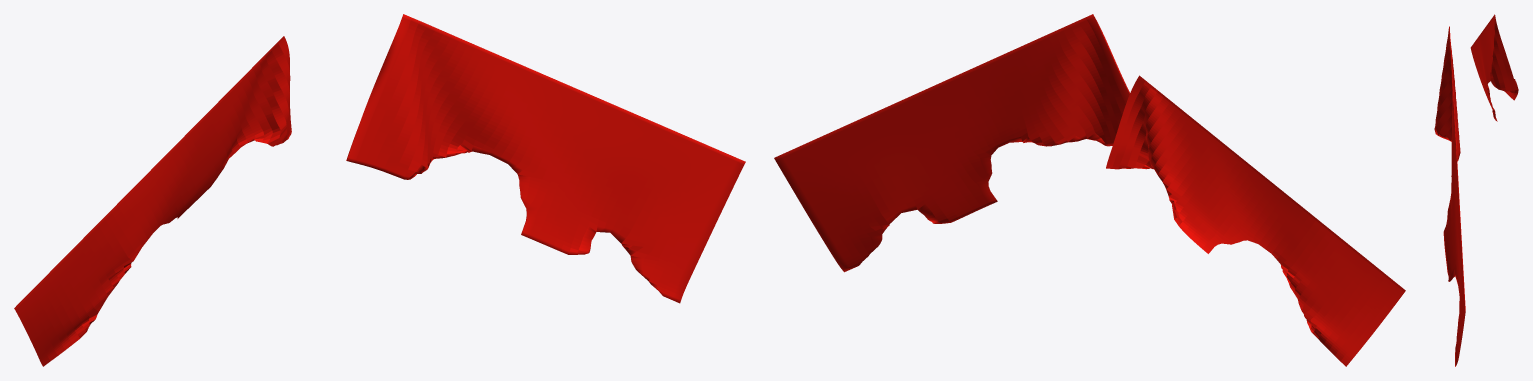
The model's file is ClotheRH.fbx.
3 views of the same model, side by side, from view 1: azimuth 30°, elevation 25°; view 2: azimuth 150°, elevation 25°; view 3: azimuth 270°, elevation 25° (orthographic). The views are drawn at different scales.
Parts seen in each view (by area): view 1: Plane.145, Plane.146; view 2: Plane.145, Plane.146; view 3: Plane.145, Plane.146.
Boxes of the visible parts, box(x1,y1,x2,y2) form: Plane.145: box(346, 14, 745, 303); Plane.146: box(14, 36, 291, 366); Plane.145: box(774, 14, 1129, 272); Plane.146: box(1106, 75, 1405, 366); Plane.145: box(1434, 26, 1465, 366); Plane.146: box(1470, 14, 1518, 121).
Bounding box in the file's own units: 1179 × 559 × 173.
